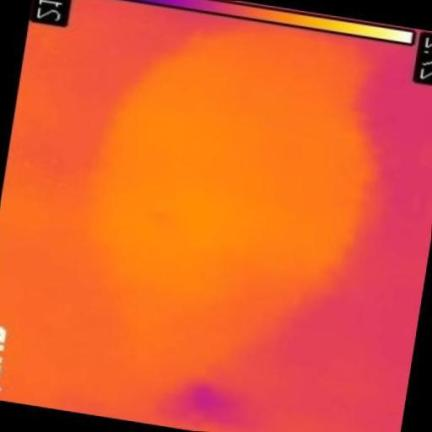mango: (94, 30, 374, 387)
